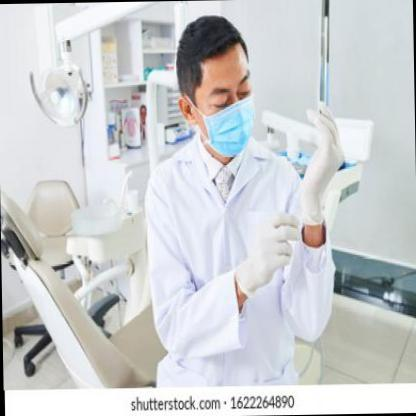Gloves: (298, 100, 346, 228), (233, 212, 304, 297)
